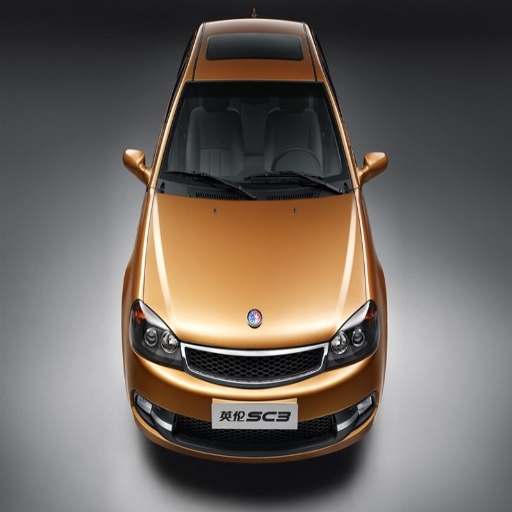front_bumper: (127, 341, 384, 462)
front_right_light: (130, 301, 182, 367)
hood: (140, 193, 369, 351)
